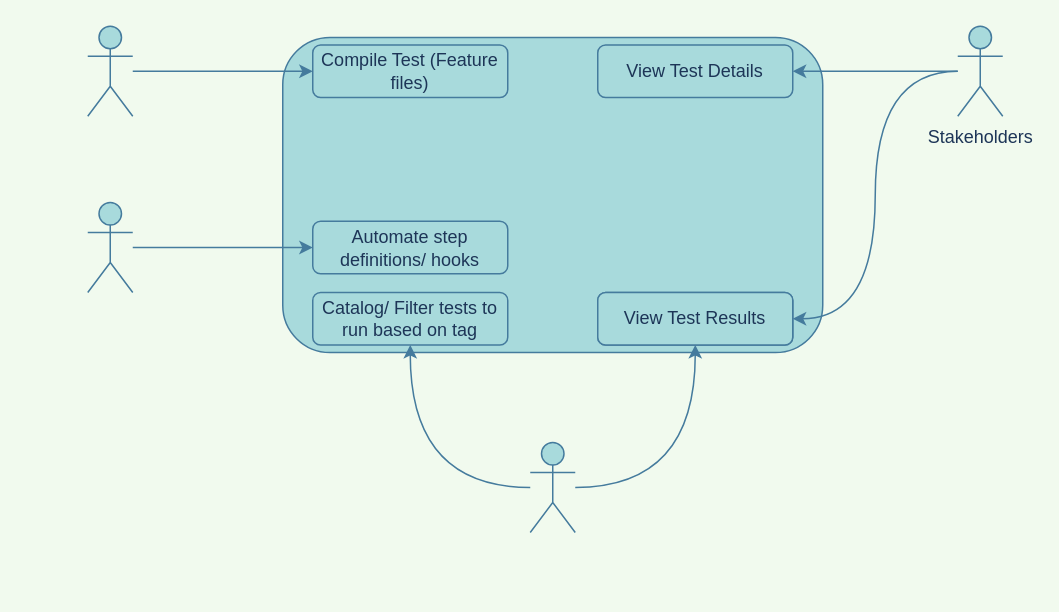
The diagram is 1059 pixels wide and 612 high, and some of its shapes have lost their labels. Each missing label, with the centre of its shape:
"Automation Engineer" goes at (109,246).
"Test Design Engineer" goes at (109,70).
"Test Execution Engineer" goes at (552,486).
